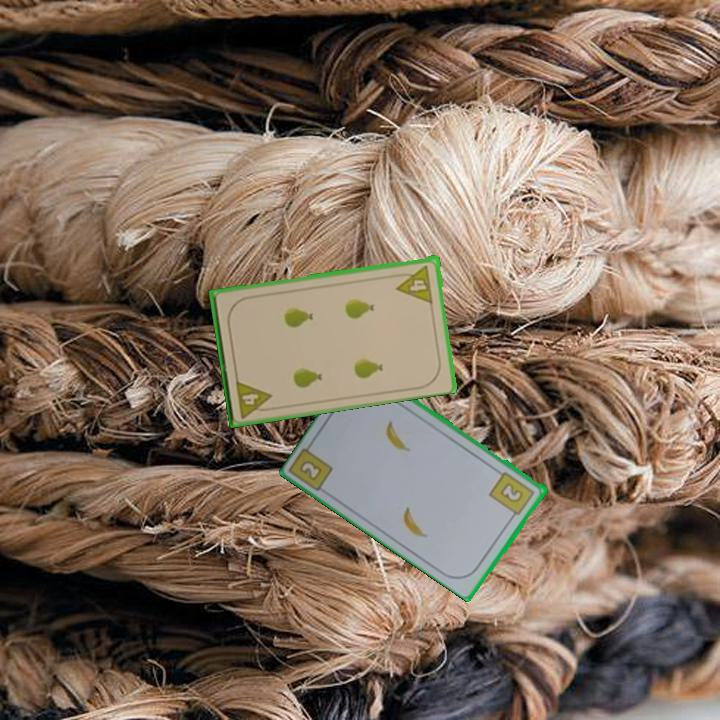2b: (486, 468, 538, 522), (296, 457, 325, 484)
4p: (232, 377, 277, 421), (392, 261, 436, 305)
